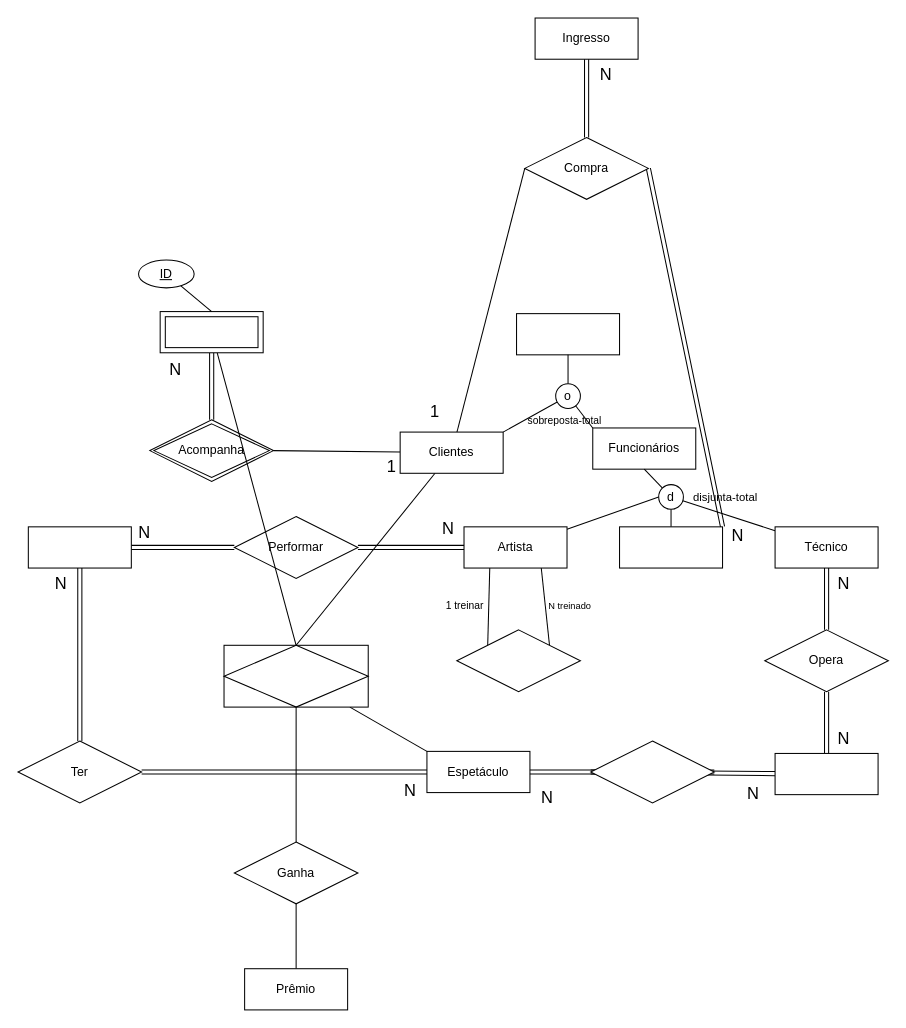
This 906x1028 diagram has some shape labels left out. Here are the shapes that lost their labels. From the top down, the centre of each, then its label:
At point 211,332: "Criança".
At point 568,334: "Pessoas".
At point 79,547: "Atrações".
At point 671,547: "Atendente".
At point 295,675: "Assiste".
At point 518,660: "Treino".
At point 652,771: "Produz".
At point 826,773: "Aparelhos".
